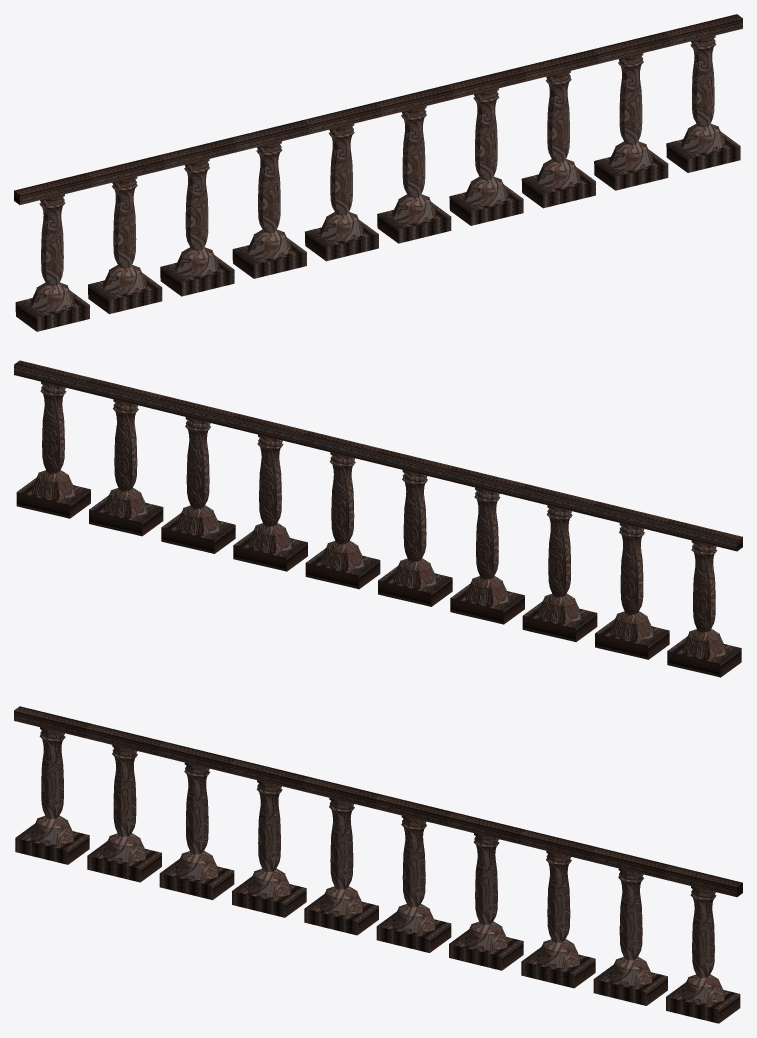
Rendered from railing.fbx.
3 views of the same model, one above another, from view 1: azimuth 30°, elevation 25°; view 2: azimuth 150°, elevation 25°; view 3: azimuth 330°, elevation 25° (orthographic).
Visible parts, largest first — view 1: baluster6, baluster9, baluster10, baluster, baluster5, baluster7, baluster12, baluster13, baluster8, baluster11, railbar, railbar6 (+8 smaller); view 2: baluster9, baluster6, baluster13, baluster5, baluster10, baluster8, baluster12, baluster, baluster7, baluster11, railbar, railbar7 (+8 smaller); view 3: baluster6, baluster9, baluster13, baluster5, baluster7, baluster10, baluster, baluster8, baluster11, baluster12, railbar13, railbar9 (+8 smaller).
Boxes of the visible parts, <box> form: baluster6: <box>160,159,234,296</box>; baluster9: <box>377,106,451,243</box>; baluster10: <box>449,88,523,225</box>; baluster: <box>15,194,89,331</box>; baluster5: <box>88,176,162,314</box>; baluster7: <box>232,141,306,278</box>; baluster12: <box>594,53,668,190</box>; baluster13: <box>666,35,740,172</box>; baluster8: <box>305,123,378,261</box>; baluster11: <box>521,70,595,208</box>; railbar: <box>14,173,91,204</box>; railbar6: <box>159,137,236,169</box>; baluster9: <box>305,452,380,589</box>; baluster6: <box>522,505,597,641</box>; baluster13: <box>16,381,90,518</box>; baluster5: <box>595,523,669,659</box>; baluster10: <box>233,434,307,571</box>; baluster8: <box>378,470,452,606</box>; baluster12: <box>89,399,163,536</box>; baluster: <box>667,540,741,677</box>; baluster7: <box>450,487,524,624</box>; baluster11: <box>161,417,235,553</box>; railbar: <box>665,519,742,551</box>; railbar7: <box>448,466,525,498</box>; baluster6: <box>159,762,234,900</box>; baluster9: <box>376,815,451,952</box>; baluster13: <box>666,886,740,1023</box>; baluster5: <box>87,745,161,882</box>; baluster7: <box>232,780,306,917</box>; baluster10: <box>449,833,523,970</box>; baluster: <box>15,727,89,864</box>; baluster8: <box>304,798,378,935</box>; baluster11: <box>521,851,595,988</box>; baluster12: <box>593,868,667,1005</box>; railbar13: <box>665,865,742,897</box>; railbar9: <box>375,794,453,826</box>.
Size of the model in its own units: 634 by 112 by 32.65.
1 material, 1 textured.
